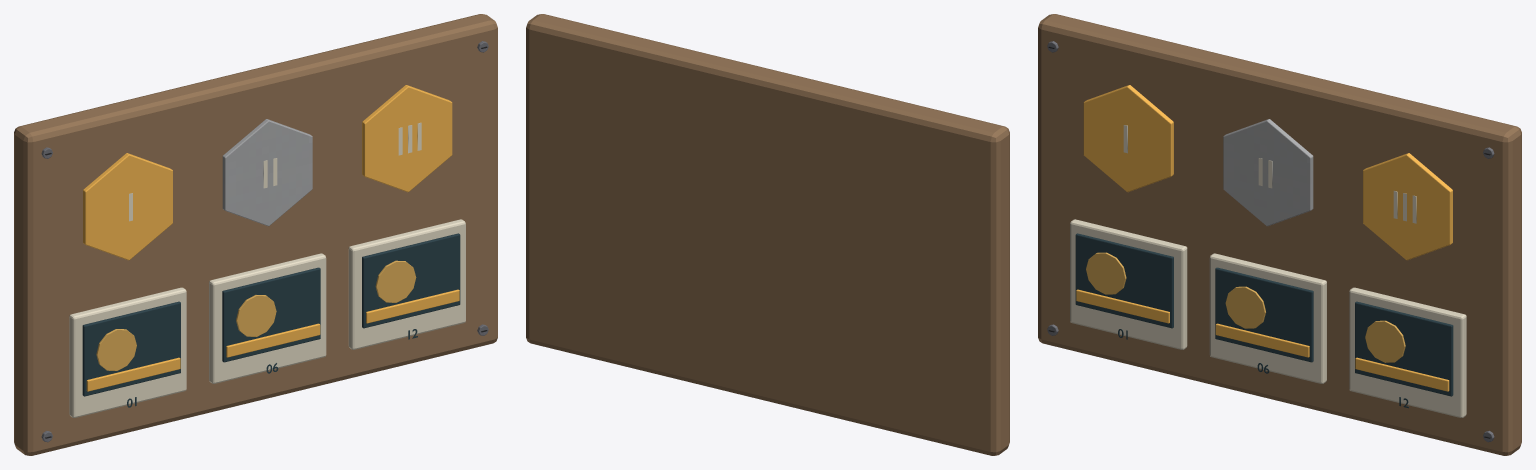
Rendered from lbd_bridge_expedition.glb.
The picture shows the model from 3 angles, left to right: view 1: azimuth 30°, elevation 25°; view 2: azimuth 150°, elevation 25°; view 3: azimuth 330°, elevation 25°; orthographic projection.
Parts seen in each view (by area): view 1: bridge_expedition__mount_003, bridge_expedition__mission patch_020, bridge_expedition__mission patch_037, bridge_expedition__mission patch_054, bridge_expedition__snapshot rim_043, bridge_expedition__snapshot rim_060, bridge_expedition__snapshot rim_026, bridge_expedition__space photo_046, bridge_expedition__space photo_063, bridge_expedition__space photo_029, bridge_expedition__planet_064, bridge_expedition__planet_030 (+4 smaller); view 2: bridge_expedition__mount_003; view 3: bridge_expedition__mount_003, bridge_expedition__mission patch_020, bridge_expedition__mission patch_037, bridge_expedition__mission patch_054, bridge_expedition__snapshot rim_043, bridge_expedition__snapshot rim_026, bridge_expedition__snapshot rim_060, bridge_expedition__space photo_046, bridge_expedition__space photo_029, bridge_expedition__space photo_063, bridge_expedition__planet_047, bridge_expedition__planet_030 (+4 smaller).
Boxes of the visible parts, <box> form: bridge_expedition__mount_003: <box>14,14,497,455</box>; bridge_expedition__mission patch_020: <box>83,153,172,260</box>; bridge_expedition__mission patch_037: <box>222,119,312,226</box>; bridge_expedition__mission patch_054: <box>362,85,452,192</box>; bridge_expedition__snapshot rim_043: <box>209,253,326,383</box>; bridge_expedition__snapshot rim_060: <box>348,219,465,349</box>; bridge_expedition__snapshot rim_026: <box>69,287,186,417</box>; bridge_expedition__space photo_046: <box>222,267,320,362</box>; bridge_expedition__space photo_063: <box>362,233,460,328</box>; bridge_expedition__space photo_029: <box>82,301,180,396</box>; bridge_expedition__planet_064: <box>375,260,416,302</box>; bridge_expedition__planet_030: <box>96,329,136,370</box>; bridge_expedition__mount_003: <box>526,14,1009,455</box>; bridge_expedition__mount_003: <box>1038,14,1521,455</box>; bridge_expedition__mission patch_020: <box>1083,85,1173,192</box>; bridge_expedition__mission patch_037: <box>1223,119,1313,226</box>; bridge_expedition__mission patch_054: <box>1363,153,1452,260</box>; bridge_expedition__snapshot rim_043: <box>1209,253,1326,383</box>; bridge_expedition__snapshot rim_026: <box>1070,219,1187,349</box>; bridge_expedition__snapshot rim_060: <box>1349,287,1466,417</box>; bridge_expedition__space photo_046: <box>1215,267,1313,362</box>; bridge_expedition__space photo_029: <box>1075,233,1173,328</box>; bridge_expedition__space photo_063: <box>1355,301,1453,396</box>; bridge_expedition__planet_047: <box>1225,286,1265,328</box>; bridge_expedition__planet_030: <box>1086,252,1126,294</box>.
Bounding box in the file's own units: 1.12 × 0.73 × 0.106.
8 materials, 3 textured.
